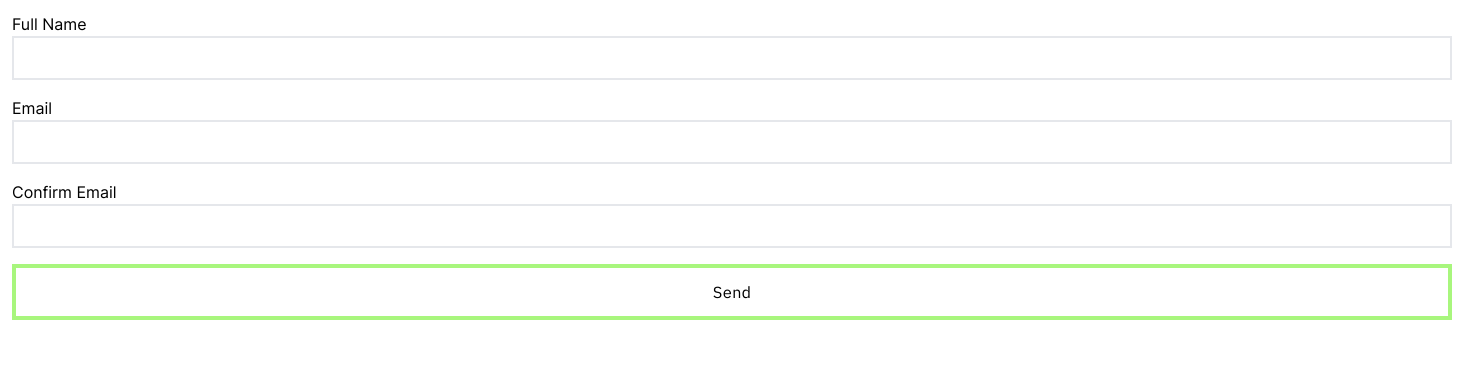
Test: error is shown when form submit failed
This screenshot has width=1464, height=377.
Type "Test User" into the field labelled "Full Name" at {"x": 732, "y": 58}, box [12, 36, 1452, 80]
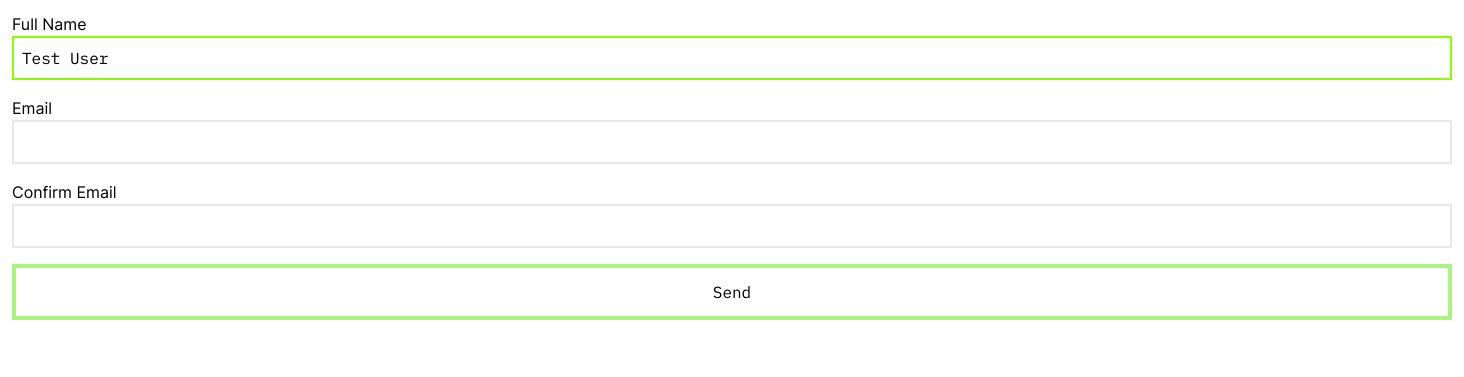
Type "test@example.com" into the field labelled "Email" at {"x": 732, "y": 142}, box [12, 120, 1452, 164]
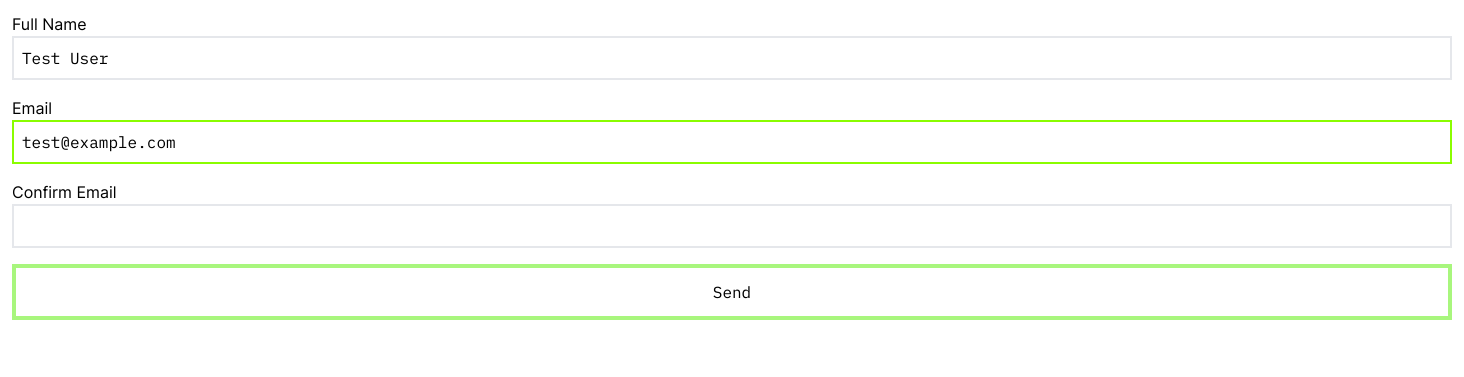
Type "test@example.com" into the field labelled "Confirm Email" at {"x": 732, "y": 226}, box [12, 204, 1452, 248]
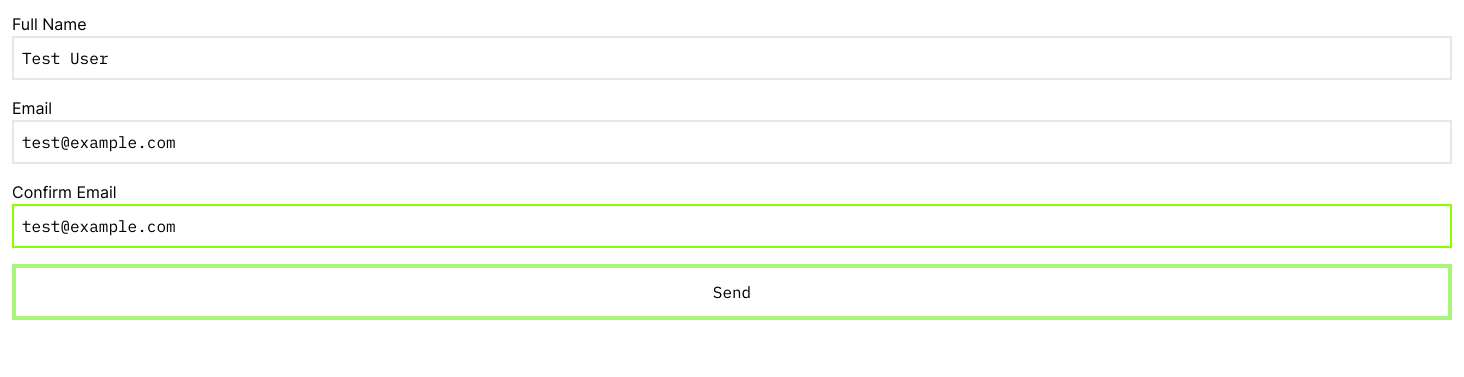
Click the button "Send" at {"x": 732, "y": 292}, box [12, 264, 1452, 320]
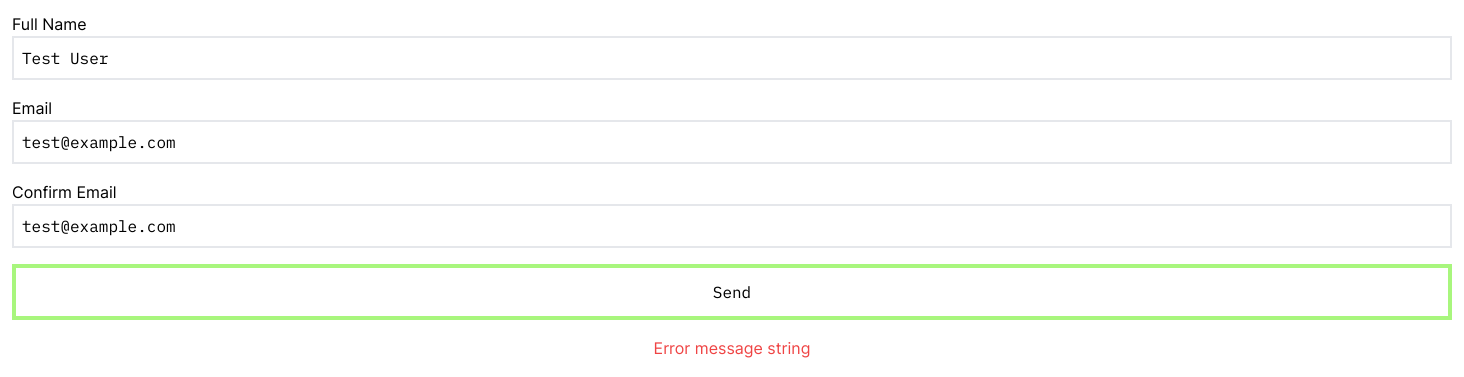
Result: the text "Error message string" is shown at [654, 336, 810, 360]
